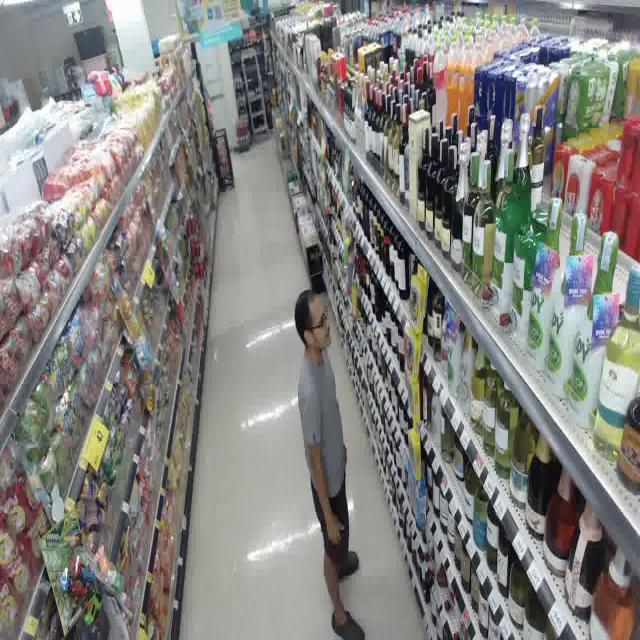Normal: (283, 273, 370, 640)
